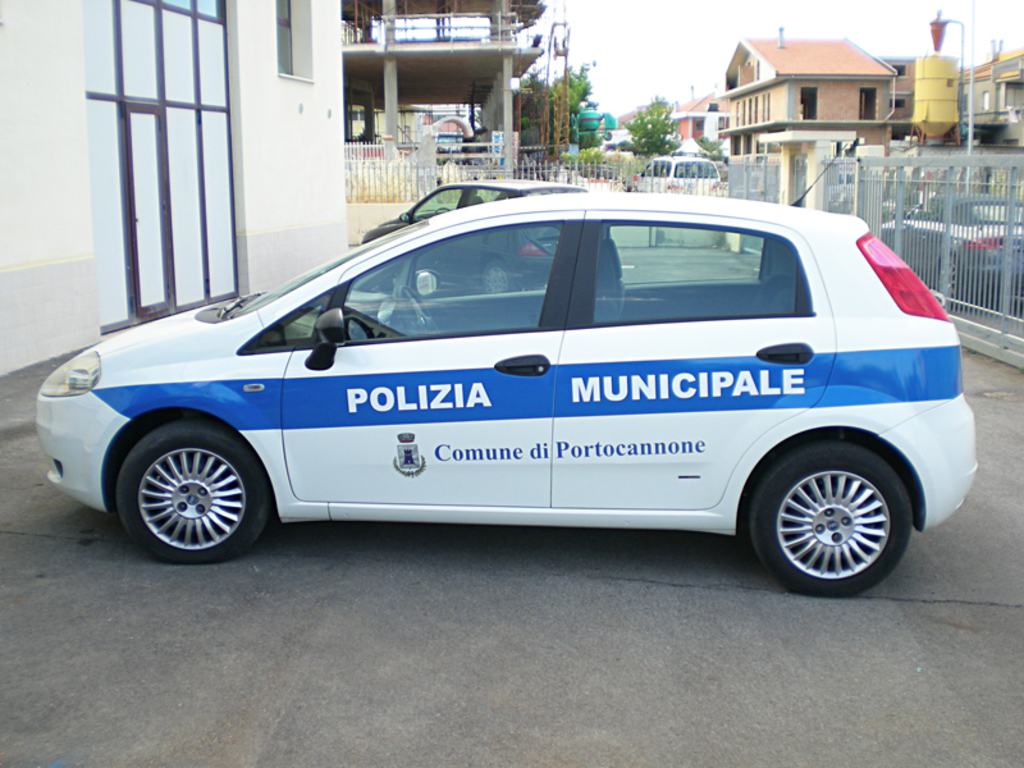Car: (42, 176, 980, 596), (355, 177, 622, 298), (884, 183, 1022, 305), (631, 153, 723, 200)
